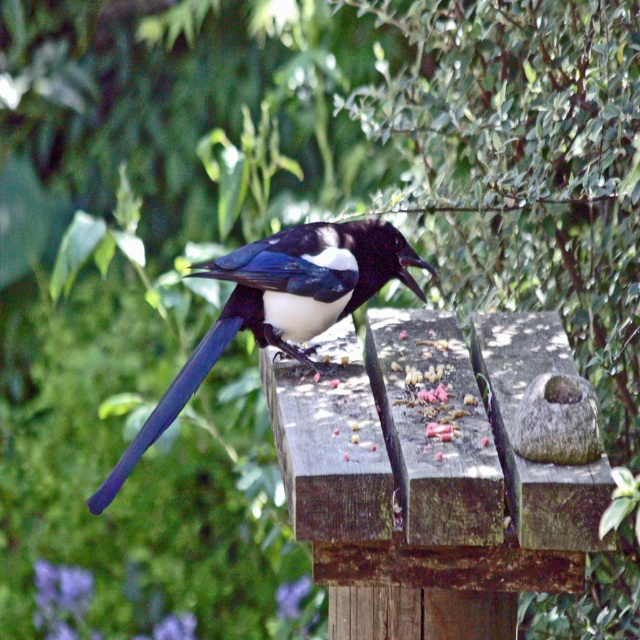Magpie: (84, 216, 433, 519)
